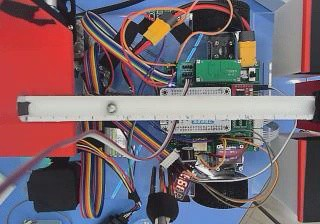ironball: (105, 102, 117, 112)
